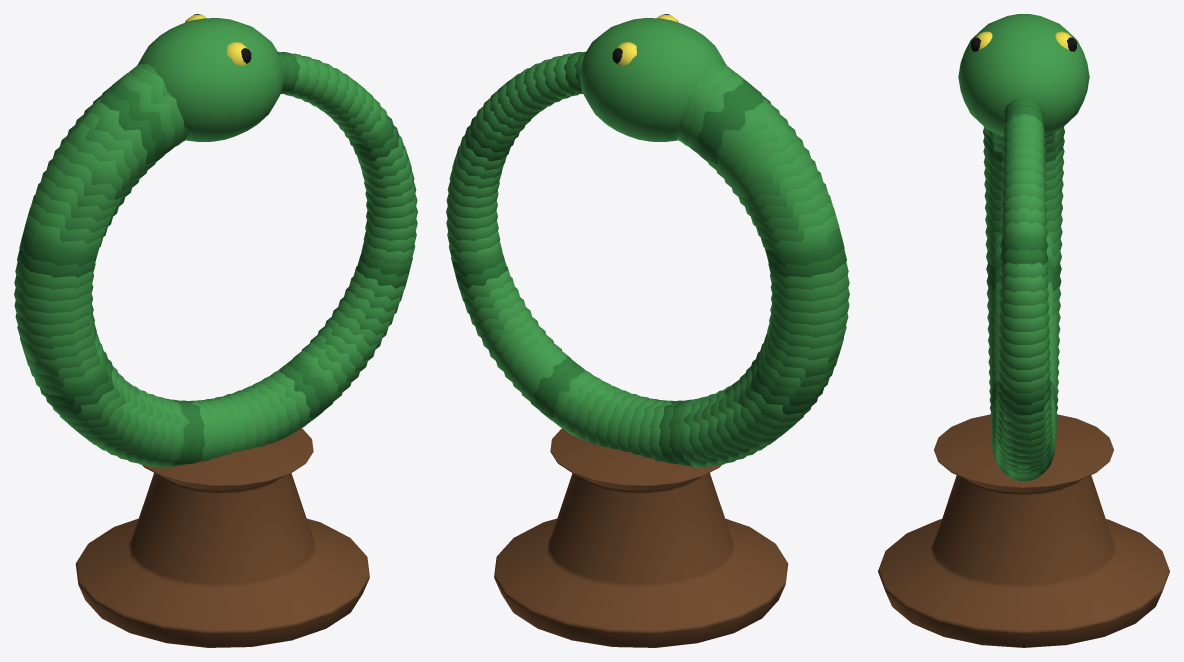
File: snake_ring.glb
The picture shows the model from 3 angles, left to right: view 1: azimuth 30°, elevation 25°; view 2: azimuth 150°, elevation 25°; view 3: azimuth 270°, elevation 25°; orthographic projection.
Parts seen in each view (by area): view 1: snake_ring; view 2: snake_ring; view 3: snake_ring.
Part boxes in pixels (x1,y1,x2,y2): snake_ring: [14, 14, 417, 647]; snake_ring: [446, 14, 849, 647]; snake_ring: [878, 14, 1169, 647].
Bounding box in the file's own units: 0.9772 × 1.35 × 0.6359.
